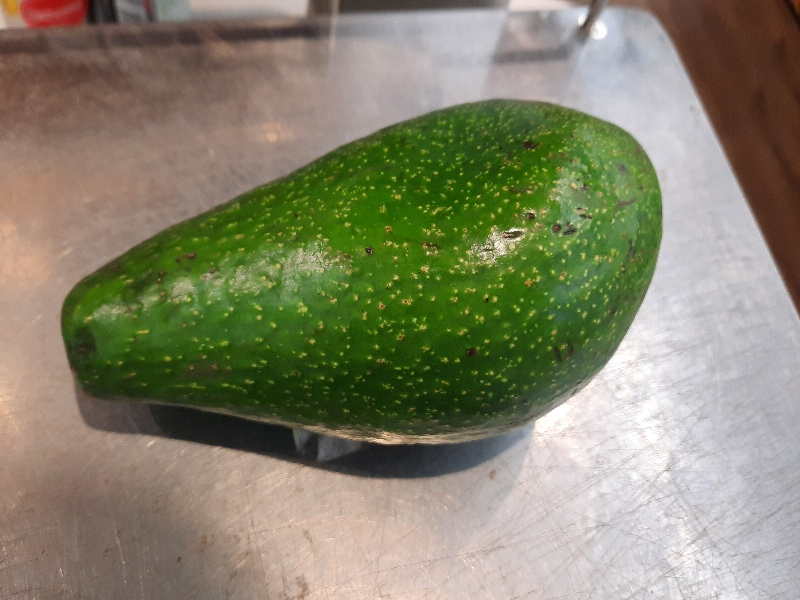fruit: (57, 97, 672, 449)
